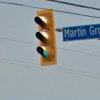Traffic light: (25, 5, 69, 76)
